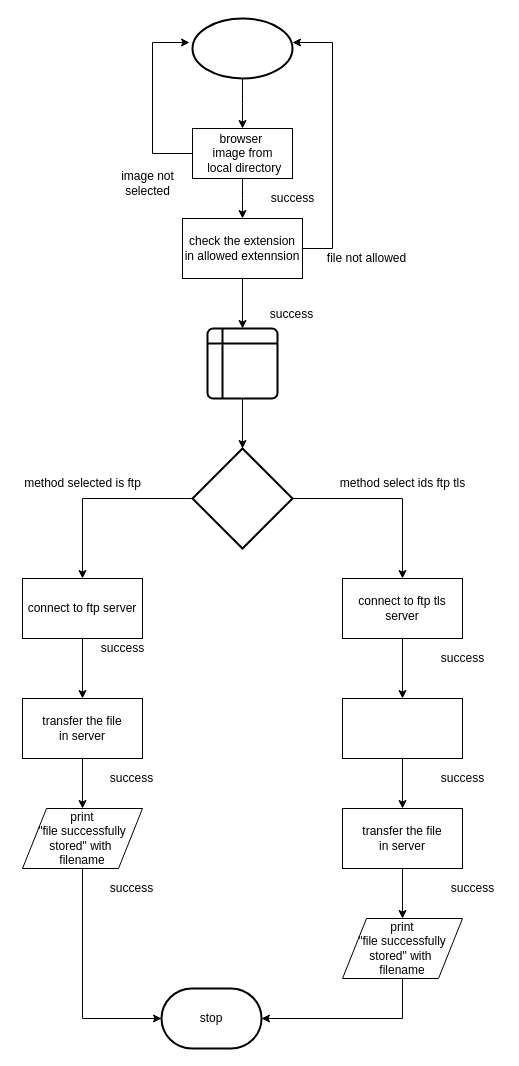
This 519x1066 diagram has some shape labels left out. The centre of each missing label's shape, as x and y in pixels:
"add additional security layer" belongs at point (402, 728).
"methods: 1)ftp 2)ftp tls" belongs at point (242, 498).
"start" belongs at point (242, 48).
"stored" belongs at point (242, 363).
